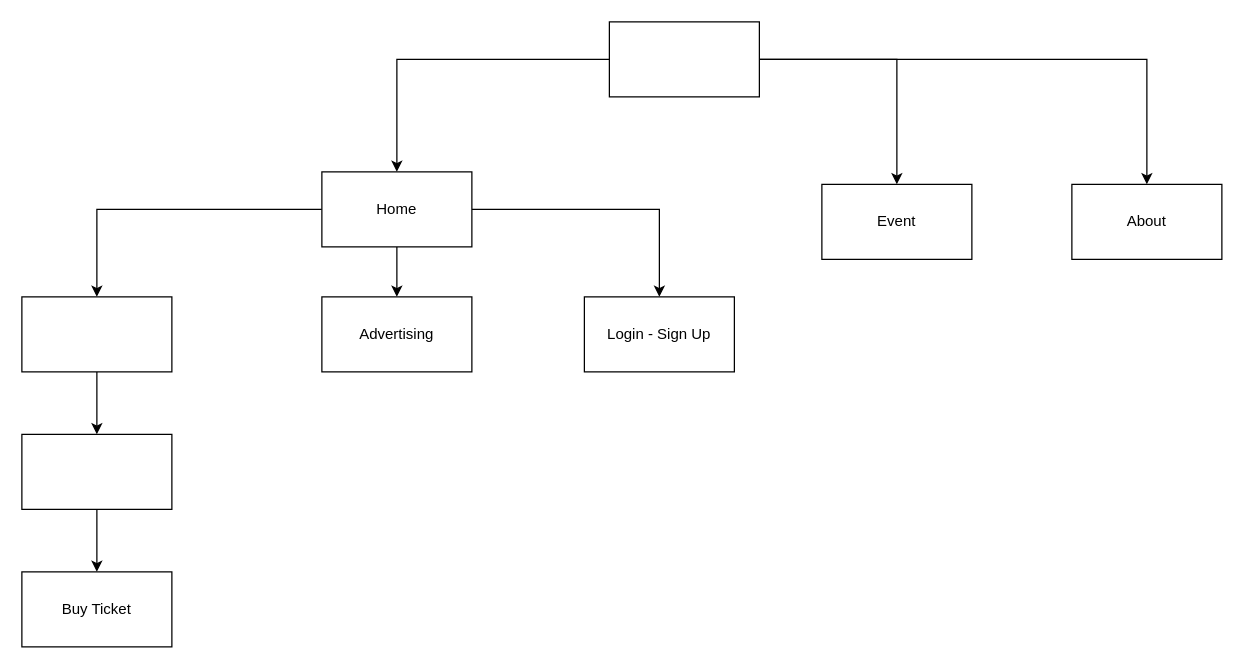
Image size: 1244x669. Some labels were removed from this diagram. The shapes that lost their labels are listed below. From the top down, each one's box as (x1, y1, x2, y2) in pixels, then its label:
(608, 21, 759, 97): Page
(21, 296, 172, 372): Flims List
(21, 433, 172, 509): Film
